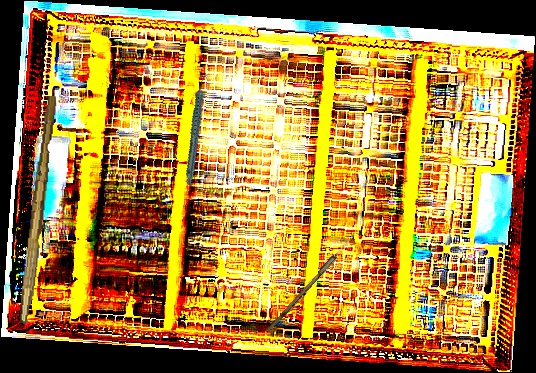Handpiece: (164, 72, 230, 186)
Scalpel Handle: (18, 95, 59, 325)
Surgical Spoon: (266, 227, 361, 334)
